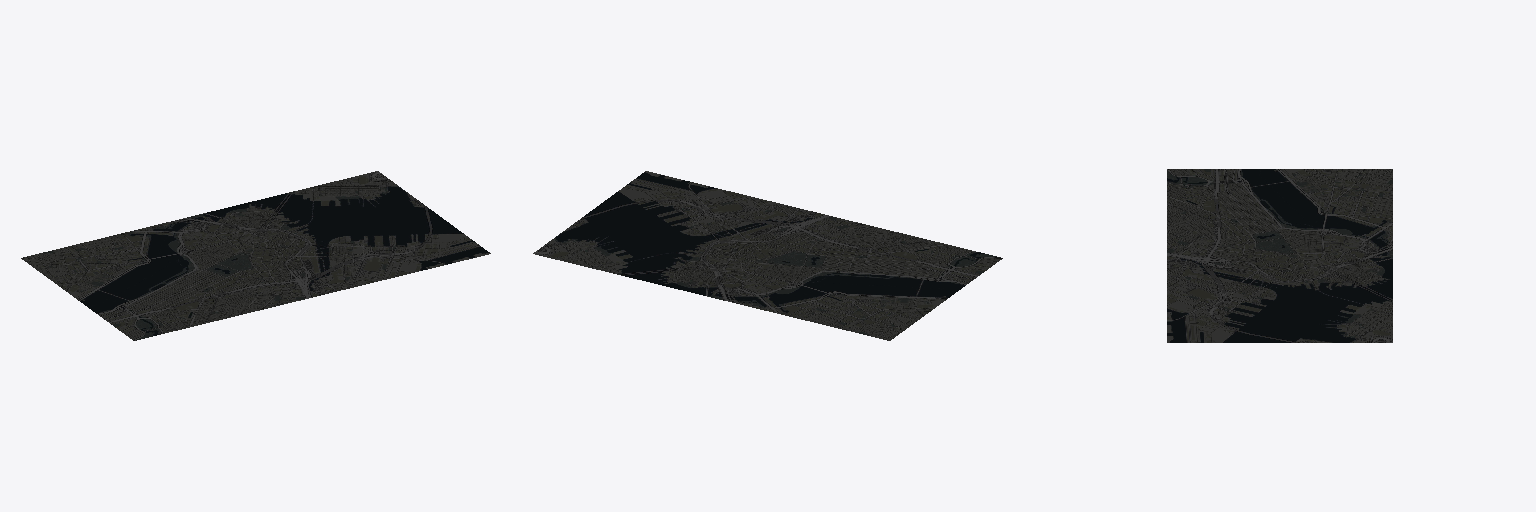
3 views of the same model, side by side, from view 1: azimuth 30°, elevation 25°; view 2: azimuth 150°, elevation 25°; view 3: azimuth 270°, elevation 25° (orthographic).
Visible parts, largest first — view 1: object_1; view 2: object_1; view 3: object_1.
Boxes of the visible parts, <box> form: object_1: <box>21,171,490,340</box>; object_1: <box>533,171,1002,340</box>; object_1: <box>1167,169,1392,342</box>.
Size of the model in its own units: 19321 by 0 by 10620.
Materials: 1 (1 with a texture image).